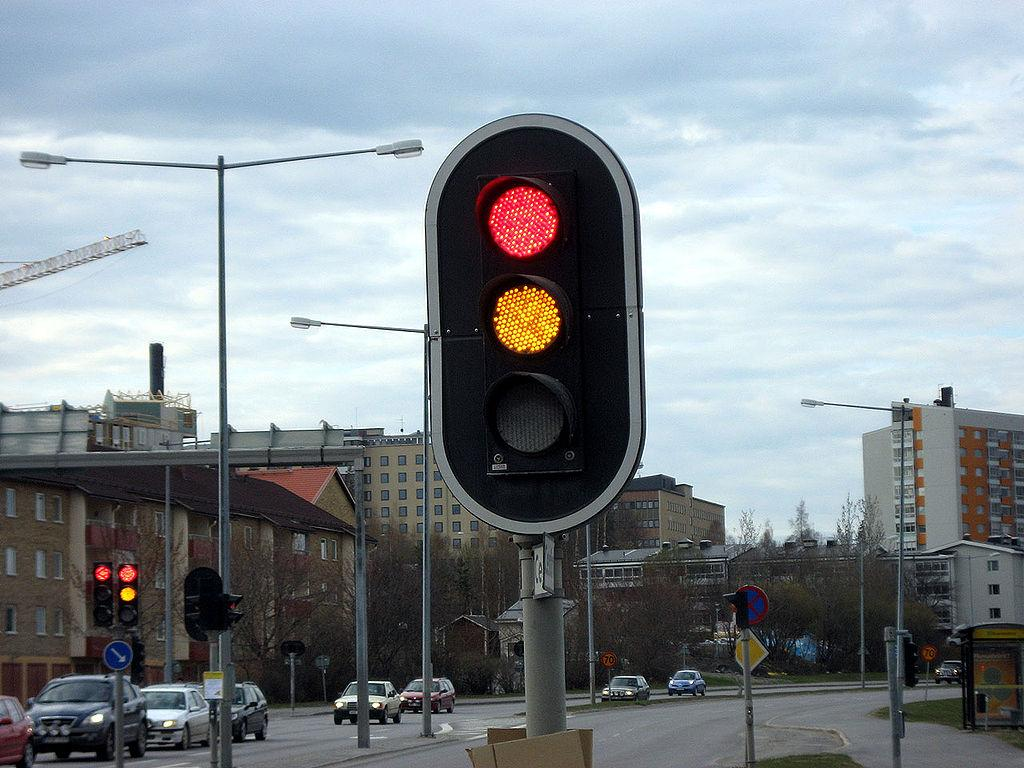car: (31, 674, 154, 759), (118, 675, 222, 756), (193, 680, 280, 749), (329, 672, 409, 733), (397, 672, 461, 719), (601, 669, 654, 706), (661, 670, 713, 702)
traffic light: (345, 92, 680, 577), (75, 551, 163, 640), (172, 562, 254, 655)
traffic sign: (718, 583, 782, 763), (100, 633, 145, 676), (920, 642, 942, 702), (597, 651, 623, 699)
